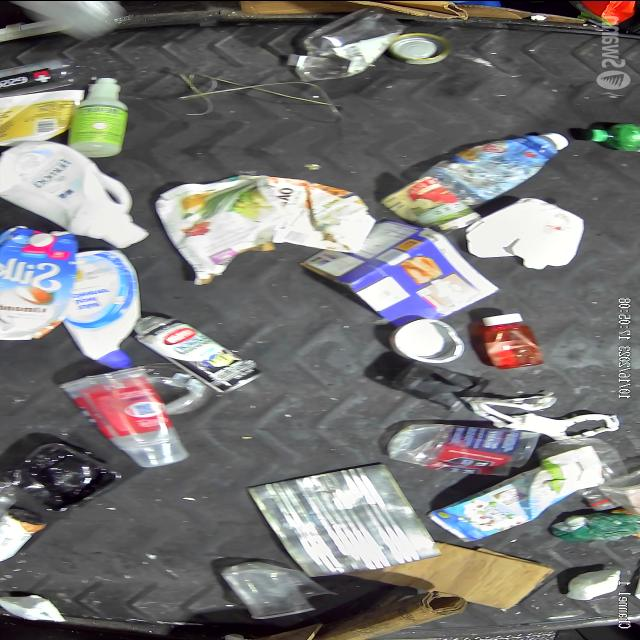can: (247, 459, 443, 582)
milk_jug: (0, 136, 154, 250)
non_white_jug: (310, 218, 502, 328), (0, 221, 88, 346)
